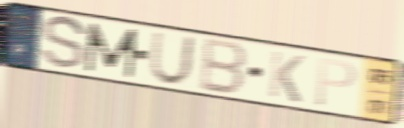B: (196, 35, 250, 98)
K: (266, 49, 307, 106)
M: (83, 21, 139, 80)
P: (312, 56, 359, 109)
S: (39, 15, 90, 73)
U: (147, 30, 198, 87)
